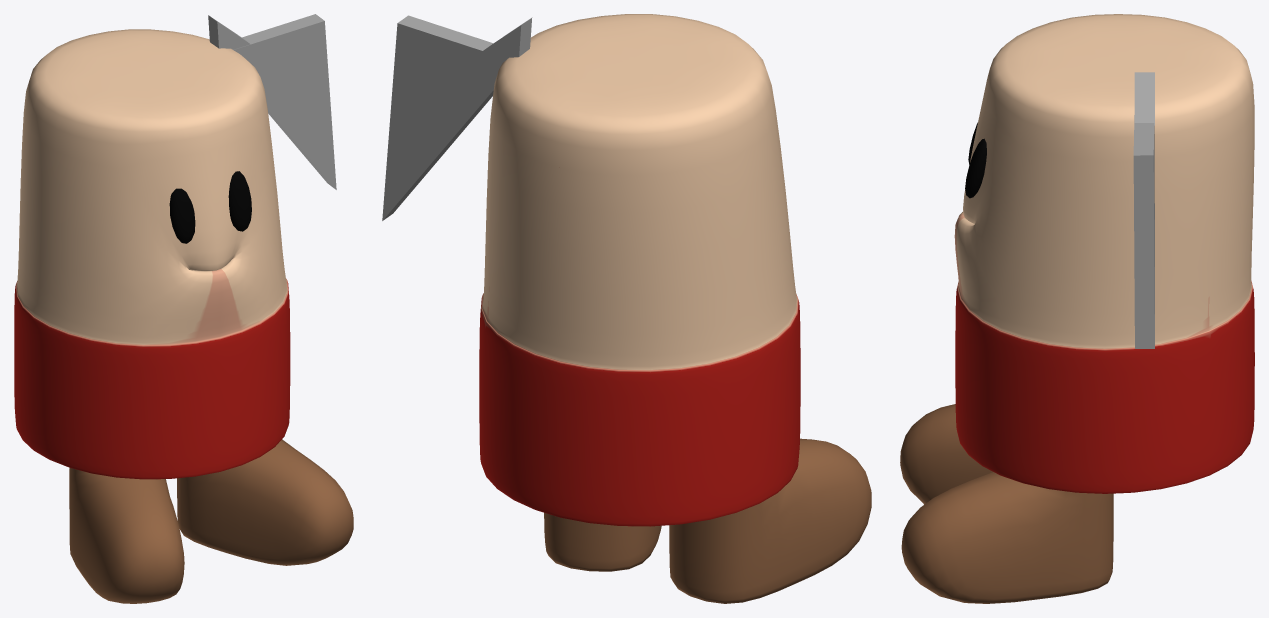
The model's file is NPC-6.fbx.
3 views of the same model, side by side, from view 1: azimuth 30°, elevation 25°; view 2: azimuth 150°, elevation 25°; view 3: azimuth 270°, elevation 25° (orthographic). The views are drawn at different scales.
Visible parts, largest first — view 1: pCylinder7, pCube39, pCube42, polySurface2, pCube41, pCube40, polySurface1; view 2: pCylinder7, pCube42, polySurface2, pCube39, polySurface1; view 3: pCylinder7, pCube39, pCube42, polySurface2, polySurface1, pCube41.
Part boxes in pixels (x1,y1,x2,y2): pCylinder7: [14, 29, 290, 479]; pCube39: [177, 439, 353, 565]; pCube42: [69, 468, 184, 603]; polySurface2: [233, 14, 336, 189]; pCube41: [228, 171, 251, 231]; pCube40: [169, 188, 195, 243]; polySurface1: [208, 15, 250, 49]; pCylinder7: [479, 14, 800, 526]; pCube42: [669, 438, 871, 603]; polySurface2: [382, 15, 504, 220]; pCube39: [544, 512, 661, 571]; polySurface1: [481, 17, 532, 60]; pCylinder7: [954, 14, 1254, 493]; pCube39: [901, 472, 1113, 603]; pCube42: [900, 404, 992, 504]; polySurface2: [1133, 115, 1154, 348]; polySurface1: [1134, 72, 1154, 125]; pCube41: [965, 138, 986, 198].
Bounding box in the file's own units: 288 × 413 × 257.
Materials: 4 (1 with a texture image).
